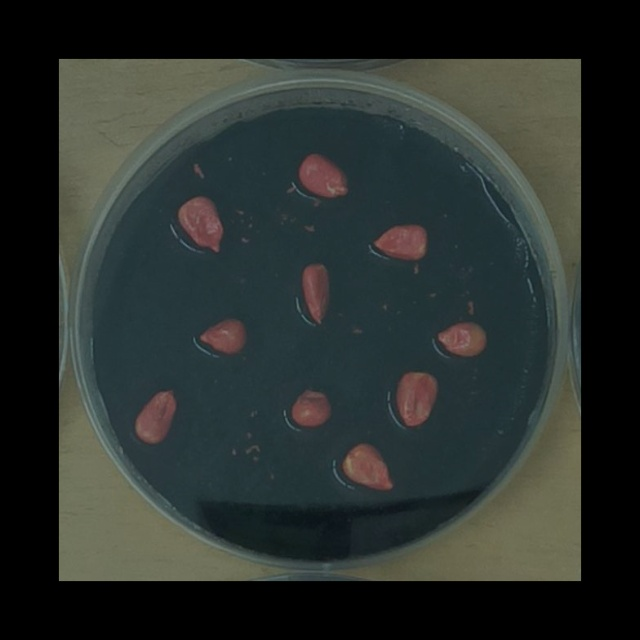Zea mays: (172, 189, 230, 258), (389, 365, 445, 433), (129, 380, 184, 449), (336, 438, 399, 497), (292, 146, 355, 204), (364, 216, 434, 266), (295, 256, 337, 331), (431, 316, 493, 362), (192, 311, 252, 358), (285, 381, 338, 432)
